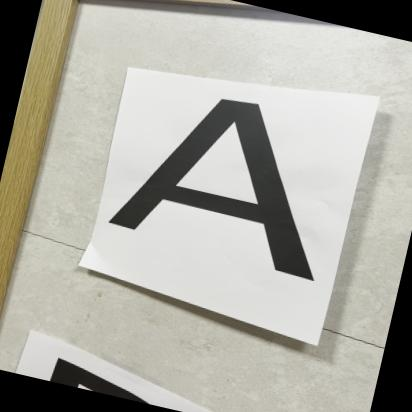seat: (100, 73, 370, 295)
